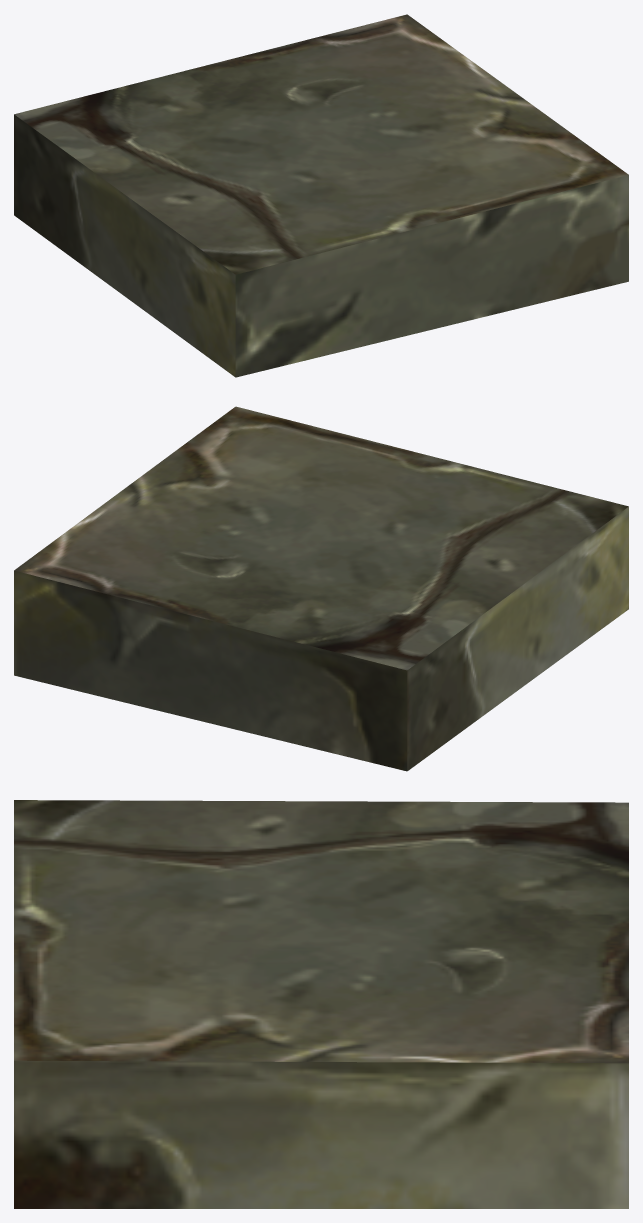
Rendered from C_bridgestart003.fbx.
3 views of the same model, one above another, from view 1: azimuth 30°, elevation 25°; view 2: azimuth 150°, elevation 25°; view 3: azimuth 270°, elevation 25° (orthographic). The views are drawn at different scales.
Visible parts, largest first — view 1: C_bridgestart003; view 2: C_bridgestart003; view 3: C_bridgestart003.
Boxes of the visible parts, left/top/right/bottom form: C_bridgestart003: left=14, top=14, right=628, bottom=377; C_bridgestart003: left=14, top=406, right=628, bottom=771; C_bridgestart003: left=14, top=800, right=628, bottom=1208.
Size of the model in its own units: 77.08 by 20 by 75.24.
